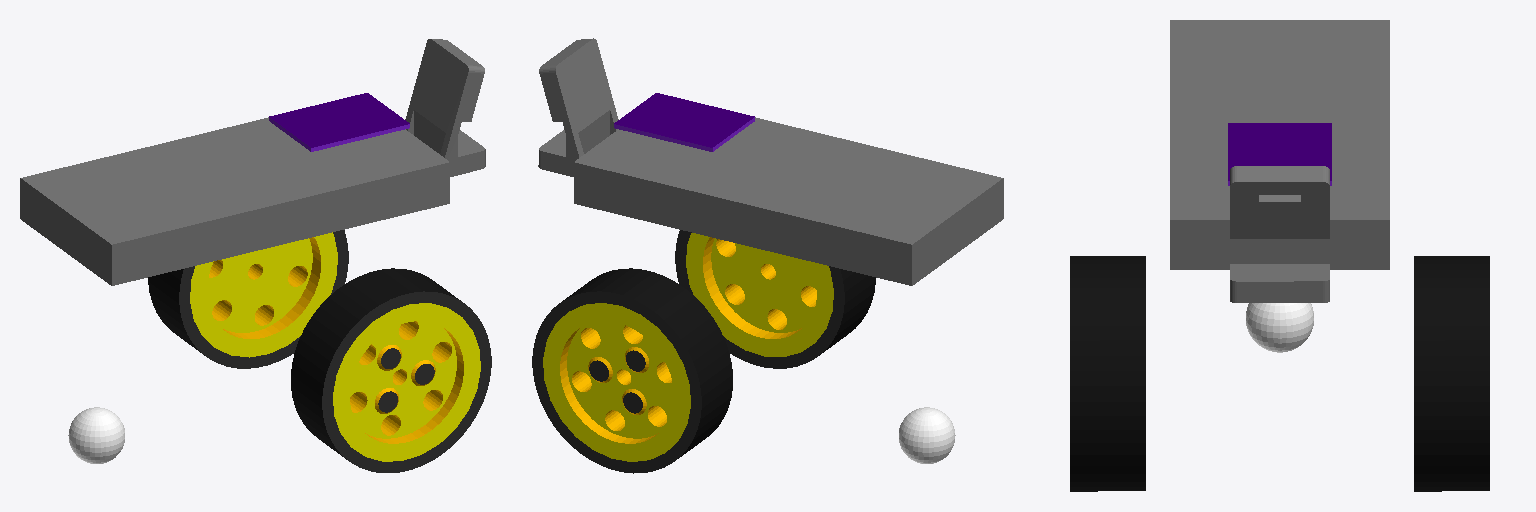
The robot description file, URDF, robot "duckiebot":
<?xml version="1.0" ?>
<robot name="duckiebot" xmlns:xacro="http://ros.org/wiki/xacro">

  <material name="blue">
    <color rgba="0.0 0.0 0.8 1.0"/>
  </material>
  <material name="grey">
    <color rgba="0.5 0.5 0.5 1.0"/>
  </material>
  <material name="red">
    <color rgba="0.8 0.0 0.0 1.0"/>
  </material>
  <material name="indigo">
    <color rgba="0.33 0.0 0.5 1.0"/>
  </material>
  <material name="yellow">
    <color rgba="1.0 1.0 0.0 1.0"/>
  </material>
  <material name="white">
    <color rgba="1.0 1.0 1.0 1.0"/>
  </material>
  <material name="black">
    <color rgba="0.01 0.01 0.01 0.9"/>
  </material>

  <link name="base_footprint"/>

  <joint name="base_joint" type="fixed">
    <parent link="base_footprint"/>
    <child link="base_link"/>
    <origin xyz="0.0 0.0 0.03425" rpy="0 0 0"/>
  </joint>
  <link name="base_link">
    <visual>
      <origin xyz="0 0 0" rpy="0 0 0"/>
      <geometry>
        <mesh filename="package://rosrider_description/meshes/duckiebot_body.dae" scale="1 1 1"/>
      </geometry>
    </visual>
  </link>

  <joint name="wheel_left_joint" type="continuous">
    <parent link="base_link"/>
    <child link="wheel_left_link"/>
    <origin xyz="0.0 0.05 0.0" rpy="-1.57 0 0"/>
    <axis xyz="0 0 1"/>
  </joint>
  <link name="wheel_left_link">
    <visual>
      <origin xyz="0 0 0" rpy="0 0 0"/>
      <geometry>
        <mesh filename="package://rosrider_description/meshes/wheel_left.dae" scale="1 1 1"/>
      </geometry>
    </visual>
  </link>

  <joint name="wheel_right_joint" type="continuous">
    <parent link="base_link"/>
    <child link="wheel_right_link"/>
    <origin xyz="0.0 -0.05 0.0" rpy="-1.57 0 0"/>
    <axis xyz="0 0 1"/>
  </joint>
  <link name="wheel_right_link">
    <visual>
      <origin xyz="0 0 0" rpy="0 0 0"/>
      <geometry>
        <mesh filename="package://rosrider_description/meshes/wheel_right.dae" scale="1 1 1"/>
      </geometry>
    </visual>
  </link>

  <joint name="wheel_steering_joint" type="continuous">
    <parent link="base_link"/>
    <child link="wheel_steering_link"/>
    <axis xyz="0 0 1"/>
    <origin xyz="-0.09 0 -0.02425" rpy="0 0 0"/>
  </joint>
  <link name="wheel_steering_link">
  </link>

  <joint name="wheel_castor_joint" type="continuous">
    <parent link="wheel_steering_link"/>
    <child link="wheel_castor_link"/>
    <axis xyz="0 1 0"/>
    <origin xyz="0 0 0" rpy="0 0 0"/>
  </joint>
  <link name="wheel_castor_link">
      <visual>
          <geometry>
            <sphere radius="0.01"/>
          </geometry>
          <material name="white"/>
      </visual>
  </link>

  <joint name="imu_joint" type="fixed">
    <parent link="base_link"/>
    <child link="imu_link"/>
    <origin xyz="0.008 0 0.0739" rpy="0 0 0"/>
  </joint>
  <link name="imu_link">
    <visual>
      <origin xyz="0 0 0" rpy="0 0 0"/>
      <geometry>
        <mesh filename="package://rosrider_description/meshes/fximu.dae" scale="1 1 1"/>
      </geometry>
    </visual>
  </link>

  <joint name="battery_joint" type="fixed">
    <parent link="base_link"/>
    <child link="battery_link"/>
    <origin xyz="-0.034057 0 0.057282" rpy="0 0 0"/>
  </joint>
  <link name="battery_link">
    <visual>
      <origin xyz="0 0 0" rpy="0 0 0"/>
      <geometry>
        <box size="0.1368 0.0639 0.016"/>
      </geometry>
      <material name="grey"/>
    </visual>
  </link>

  <joint name="camera_joint" type="fixed">
    <parent link="base_link"/>
    <child link="camera_optical_frame"/>
    <origin xyz="0.05935 0.0 0.07690" rpy="-1.87 0.0 -1.57"/>
  </joint>

  <link name="camera_optical_frame">
    <visual>
      <origin xyz="0 0 0" rpy="0 0 0"/>
      <geometry>
        <mesh filename="package://rosrider_description/meshes/cam_stand_optical.dae" scale="1 1 1"/>
      </geometry>
      <material name="grey"/>
    </visual>
  </link>

</robot>

--- Facts derived from the render (not from the file) ---
3 views of the same robot in one strip: view 1: azimuth 30°, elevation 25°; view 2: azimuth 150°, elevation 25°; view 3: azimuth 270°, elevation 25° (orthographic).
Model duckiebot with 9 links and 8 joints (4 continuous, 4 fixed), rooted at base_footprint, posed all joints at 0.
Links seen in each view (by area): view 1: battery_link, wheel_right_link, wheel_left_link, camera_optical_frame, imu_link, wheel_castor_link; view 2: battery_link, wheel_left_link, wheel_right_link, camera_optical_frame, imu_link, wheel_castor_link; view 3: battery_link, wheel_left_link, wheel_right_link, camera_optical_frame, imu_link, wheel_castor_link.
Boxes of the visible links, x1,y1,x2,y2 form: battery_link: (20, 117, 449, 285); wheel_right_link: (291, 268, 491, 472); wheel_left_link: (148, 230, 348, 368); camera_optical_frame: (405, 39, 485, 176); imu_link: (269, 93, 409, 151); wheel_castor_link: (68, 407, 124, 463); battery_link: (574, 117, 1003, 285); wheel_left_link: (532, 268, 732, 473); wheel_right_link: (675, 230, 875, 368); camera_optical_frame: (538, 38, 618, 176); imu_link: (614, 93, 754, 151); wheel_castor_link: (899, 407, 955, 463); battery_link: (1170, 20, 1389, 269); wheel_left_link: (1414, 256, 1489, 491); wheel_right_link: (1070, 256, 1145, 491); camera_optical_frame: (1230, 166, 1329, 302); imu_link: (1228, 123, 1331, 185); wheel_castor_link: (1246, 303, 1313, 352).
Size in the robot's own frame: 0.1626 by 0.1221 by 0.1251 metres.
Meshes: 5 distinct files referenced, 4 mesh visuals loaded (4 Collada DAE); not drawn: 1 (reference not matched to a file when rendering).
